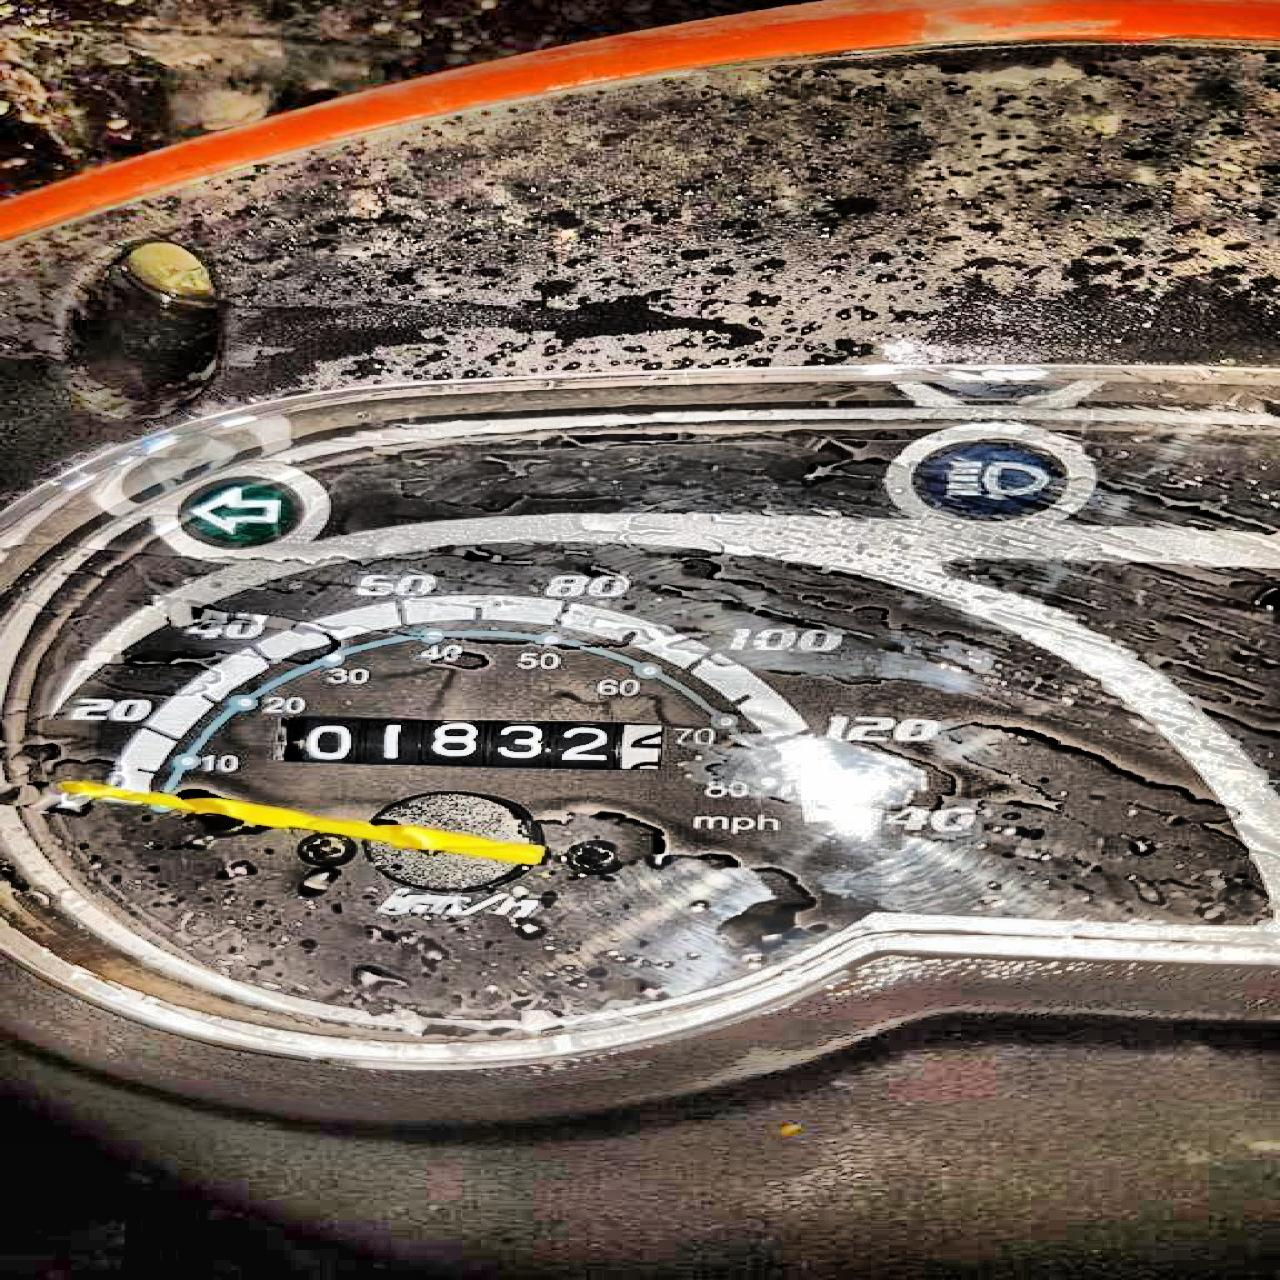0: (300, 722, 355, 763)
1: (374, 719, 404, 761)
2: (553, 724, 607, 768), (625, 719, 665, 753)
3: (493, 722, 545, 760)
8: (427, 721, 481, 761)
odometer: (268, 714, 669, 772)
